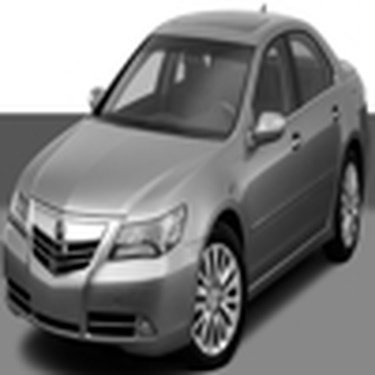car: (1, 1, 370, 371)
